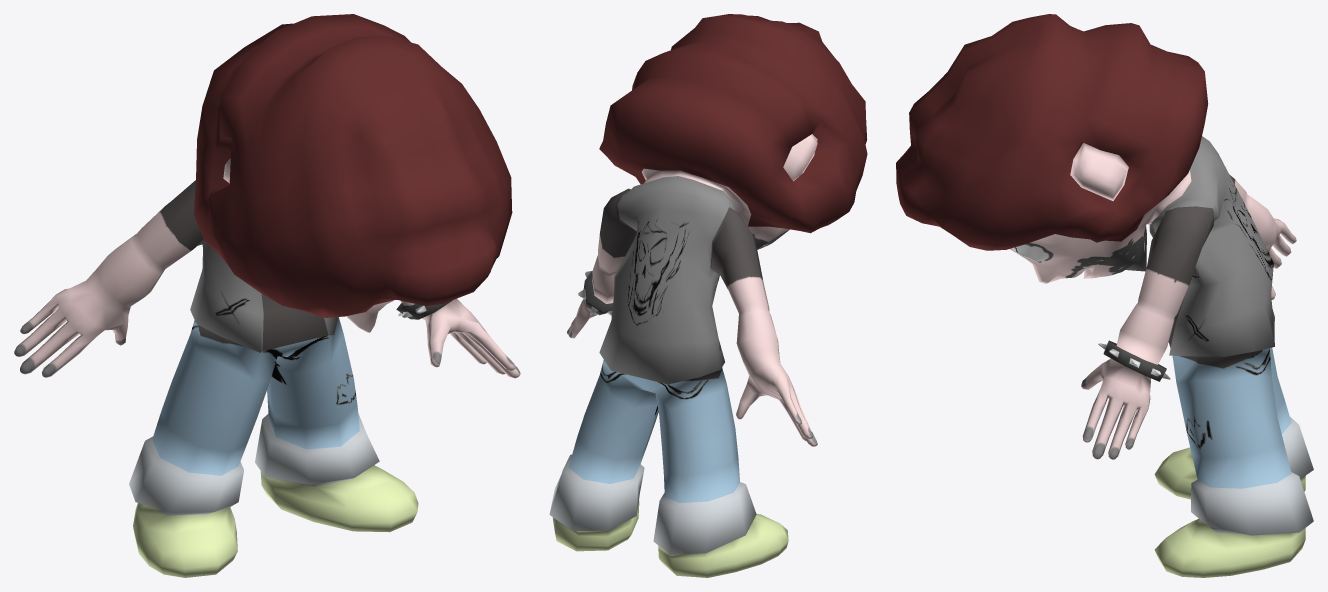
File: rockero_rigging_000100.obj
The picture shows the model from 3 angles, left to right: view 1: azimuth 30°, elevation 25°; view 2: azimuth 150°, elevation 25°; view 3: azimuth 270°, elevation 25°; orthographic projection. The views are drawn at different scales.
Visible parts, largest first — view 1: Cylinder.001; view 2: Cylinder.001; view 3: Cylinder.001.
Part boxes in pixels (x1,y1,x2,y2): Cylinder.001: (14, 14, 520, 577); Cylinder.001: (549, 14, 867, 577); Cylinder.001: (896, 14, 1313, 577).
Size of the model in its own units: 2.99 by 4.01 by 3.06.
Materials: 1 (1 with a texture image).
